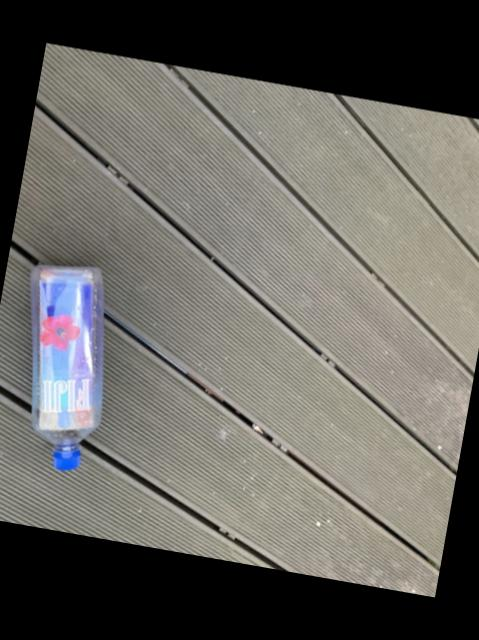plastic: (27, 266, 99, 470)
